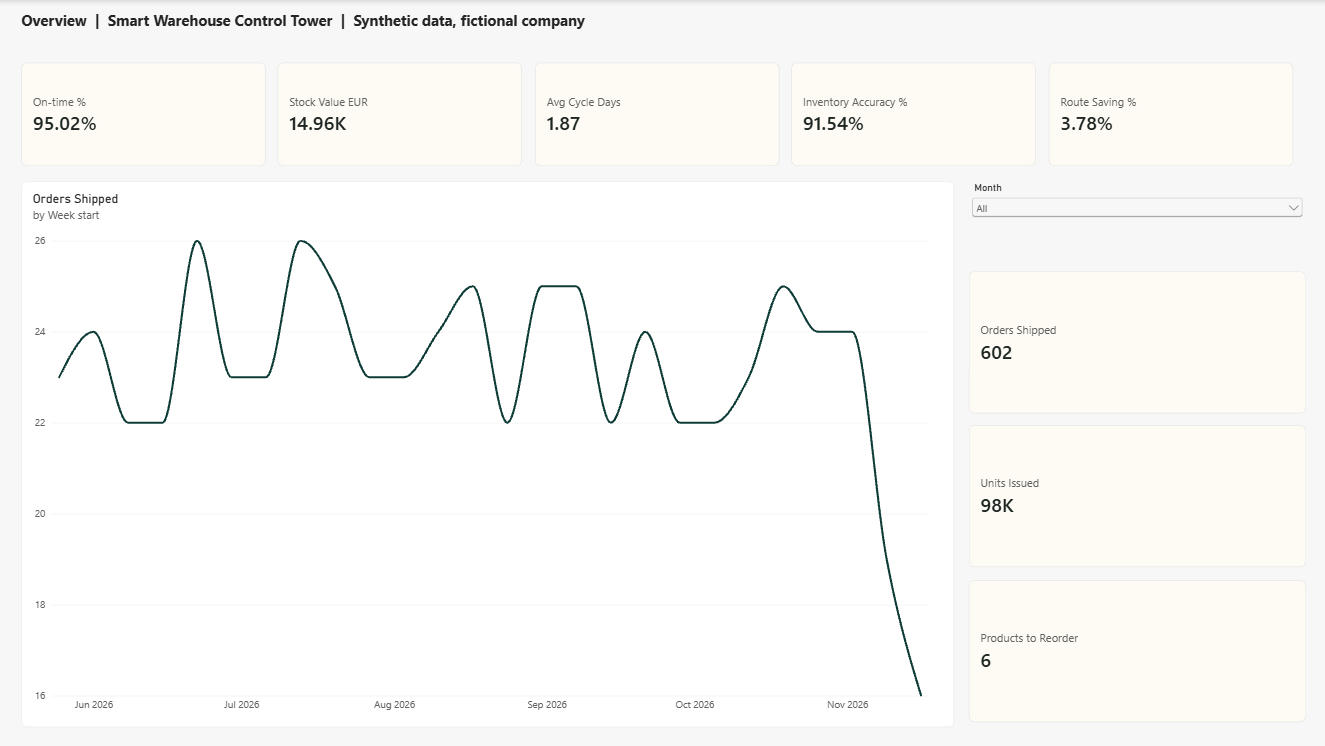

The dashboard page shown, as its layout file describes it:
{"tool":"powerbi","page":{"name":"Overview","canvas":[1920,1080],"ordinal":0},"visuals":[{"type":"cardVisual","fields":{"Data":["Measures (2).On-time %"]},"box":[30,90,354,150],"z":0},{"type":"cardVisual","fields":{"Data":["Measures (2).Avg Cycle Days"]},"box":[774,90,354,150],"z":1000},{"type":"cardVisual","fields":{"Data":["Measures (2).Inventory Accuracy %"]},"box":[1146,90,354,150],"z":2000},{"type":"cardVisual","fields":{"Data":["Measures (2).Route Saving %"]},"box":[1518,90,354,150],"z":3000},{"type":"cardVisual","fields":{"Data":["Measures (2).Stock Value EUR"]},"box":[402,90,354,150],"z":4000},{"type":"lineChart","fields":{"Category":["Date.Week start"],"Y":["Measures (2).Orders Shipped"]},"box":[30,262,1350,790],"z":5001},{"type":"slicer","fields":{"Values":["Date.Month"]},"box":[1402,262,488,110],"z":5002},{"type":"cardVisual","fields":{"Data":["Measures (2).Orders Shipped"]},"box":[1402,392,488,206],"z":5003},{"type":"cardVisual","fields":{"Data":["Measures (2).Units Issued"]},"box":[1402,616,488,206],"z":5004},{"type":"cardVisual","fields":{"Data":["Measures (2).Products to Reorder"]},"box":[1402,840,488,206],"z":5005},{"type":"textbox","box":[30,15,1820,60],"z":5006}]}

Visuals, with their boxes in screenshot pixels (x1, y1, x2, y2), scaled from the page's 1920x1080 canvas onto the 1325x746 screenshot:
cardVisual - Measures (2).On-time %: bbox(21, 62, 265, 166)
cardVisual - Measures (2).Avg Cycle Days: bbox(534, 62, 778, 166)
cardVisual - Measures (2).Inventory Accuracy %: bbox(791, 62, 1035, 166)
cardVisual - Measures (2).Route Saving %: bbox(1048, 62, 1292, 166)
cardVisual - Measures (2).Stock Value EUR: bbox(277, 62, 522, 166)
lineChart - Date.Week start x Measures (2).Orders Shipped: bbox(21, 181, 952, 727)
slicer - Date.Month: bbox(968, 181, 1304, 257)
cardVisual - Measures (2).Orders Shipped: bbox(968, 271, 1304, 413)
cardVisual - Measures (2).Units Issued: bbox(968, 425, 1304, 568)
cardVisual - Measures (2).Products to Reorder: bbox(968, 580, 1304, 723)
textbox: bbox(21, 10, 1277, 52)
